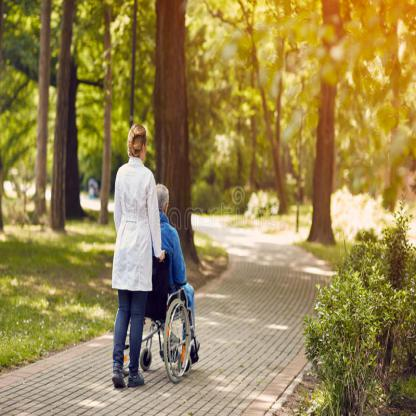wheelchair: (136, 178, 200, 382)
